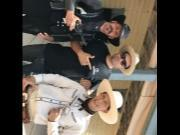gun: (52, 94, 79, 116), (70, 18, 88, 50)
